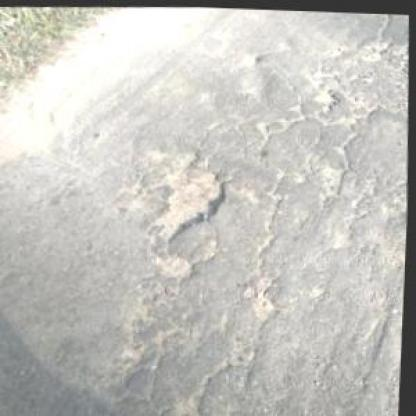pothole: (151, 165, 233, 241), (158, 251, 201, 279)
